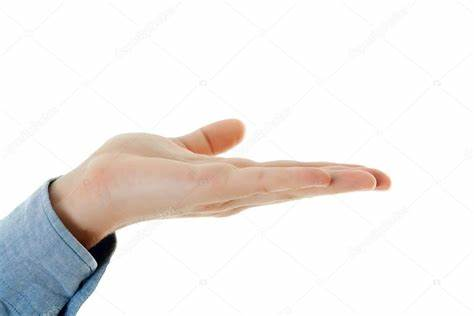no-phone: (63, 101, 414, 248)
